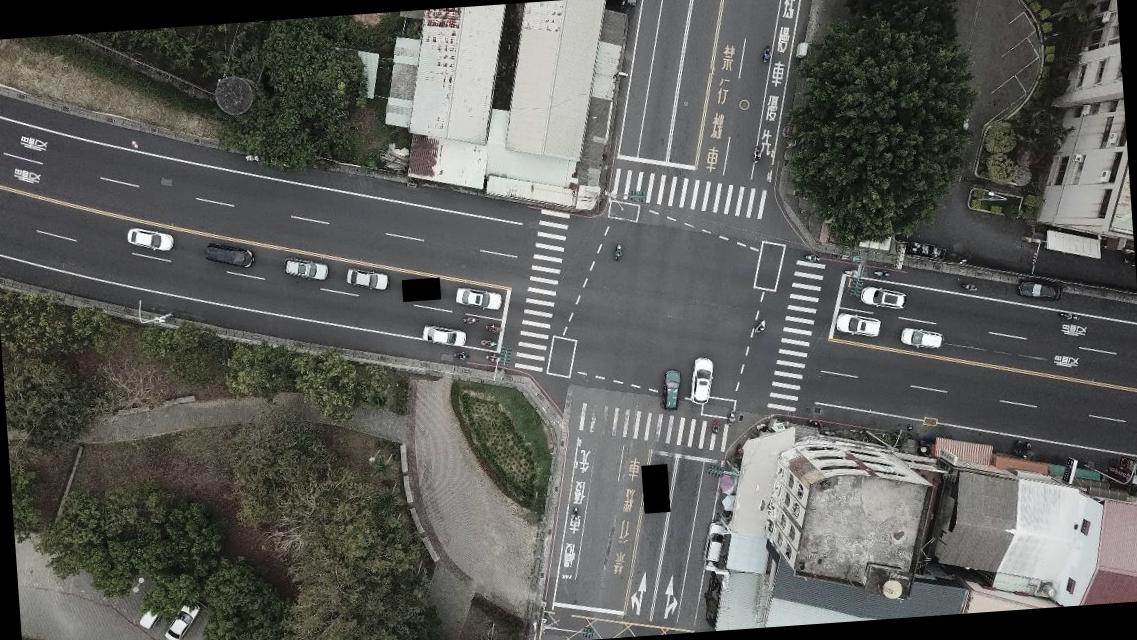vehicle: (160, 597, 202, 639), (203, 239, 256, 271), (455, 282, 503, 314), (126, 224, 177, 254), (688, 353, 717, 405), (858, 282, 908, 312), (281, 254, 331, 284), (834, 308, 883, 338), (698, 518, 728, 564), (420, 321, 469, 348), (346, 262, 390, 292), (899, 325, 947, 352), (658, 369, 684, 412), (1018, 278, 1064, 302), (137, 598, 160, 630)
